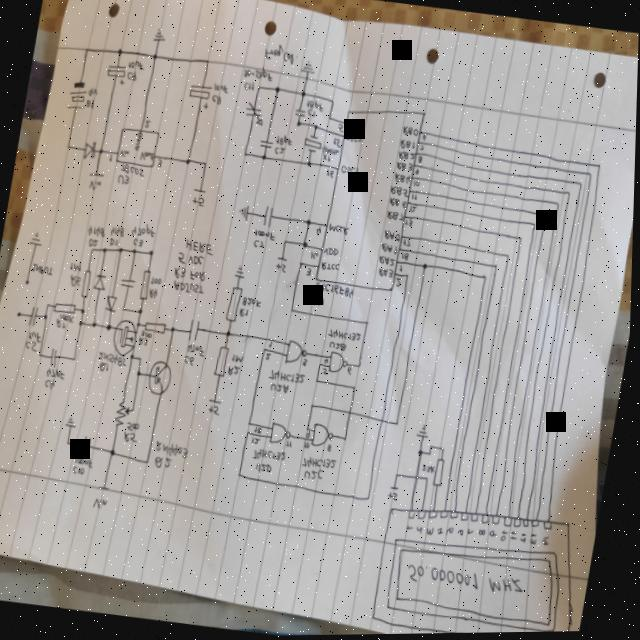capacitor: (187, 84, 212, 111), (243, 101, 267, 128), (104, 63, 127, 86), (188, 317, 202, 343), (262, 204, 276, 228), (81, 434, 95, 456), (49, 347, 61, 368), (29, 305, 40, 326), (120, 277, 138, 289), (292, 106, 306, 120), (259, 138, 274, 150)
crossover: (348, 408, 355, 417), (381, 417, 387, 424), (416, 475, 421, 482)
diode: (82, 139, 99, 162), (93, 273, 109, 291), (105, 294, 120, 313)
ground: (298, 59, 317, 76), (28, 230, 45, 248), (238, 203, 252, 224), (416, 424, 433, 441), (152, 27, 166, 43), (65, 415, 80, 429), (234, 265, 247, 280)
junction: (110, 447, 119, 457), (305, 160, 313, 169), (116, 47, 123, 57), (505, 252, 512, 262), (203, 58, 211, 66), (419, 449, 426, 458), (184, 157, 191, 166), (107, 323, 114, 332), (273, 85, 280, 94), (302, 240, 309, 249), (343, 435, 350, 444), (481, 274, 488, 283), (145, 457, 152, 466), (226, 329, 233, 338), (367, 495, 374, 504), (422, 263, 429, 272), (517, 235, 524, 244), (238, 470, 245, 479), (300, 89, 307, 98), (290, 306, 297, 315), (151, 52, 158, 61), (66, 439, 73, 447), (260, 153, 267, 161), (83, 45, 89, 54), (73, 354, 79, 363), (282, 239, 289, 246), (554, 201, 561, 208), (587, 172, 594, 179), (295, 121, 302, 128), (242, 150, 248, 158), (65, 143, 71, 151), (306, 219, 312, 227), (149, 249, 155, 256), (311, 403, 317, 410), (98, 148, 104, 155), (132, 248, 138, 255), (79, 320, 85, 326), (395, 421, 401, 427), (578, 182, 584, 188), (313, 125, 319, 131), (405, 273, 411, 279), (597, 164, 602, 171), (203, 161, 208, 167), (137, 370, 142, 376), (396, 473, 401, 479), (353, 385, 358, 391), (81, 308, 86, 314), (316, 378, 321, 384), (442, 447, 447, 453), (39, 352, 44, 358), (139, 308, 144, 314), (532, 223, 537, 229), (543, 213, 548, 219), (567, 191, 572, 197), (299, 261, 304, 267), (256, 85, 261, 91), (494, 264, 499, 270), (171, 326, 176, 332), (91, 247, 96, 253), (103, 247, 108, 253), (119, 247, 124, 253), (122, 305, 127, 311), (137, 321, 142, 327), (131, 353, 136, 359), (139, 356, 144, 362), (45, 313, 50, 319), (93, 321, 98, 327), (132, 407, 137, 413), (358, 364, 363, 369), (249, 421, 254, 426), (330, 100, 335, 105), (429, 452, 434, 457), (426, 477, 431, 482), (248, 430, 253, 435), (366, 321, 371, 326), (307, 427, 312, 432), (264, 347, 269, 352), (430, 446, 435, 450), (319, 363, 323, 367), (327, 117, 331, 121), (47, 302, 51, 306)
resistor: (224, 284, 244, 323), (214, 345, 231, 379), (115, 399, 133, 427), (139, 270, 153, 301), (434, 459, 448, 488), (81, 268, 94, 297), (54, 301, 77, 315), (145, 320, 168, 334)
source: (66, 79, 90, 111)
terminal: (88, 171, 105, 178), (193, 188, 208, 195), (209, 397, 224, 404), (100, 484, 112, 491), (391, 485, 403, 491), (17, 308, 24, 318), (277, 256, 288, 262), (25, 279, 31, 285)
text: (408, 562, 529, 599), (261, 42, 297, 66), (316, 281, 356, 300), (156, 440, 192, 460), (253, 446, 290, 465), (302, 454, 340, 472), (184, 237, 216, 257), (269, 369, 308, 385), (242, 65, 275, 83), (98, 350, 130, 368), (173, 279, 206, 296), (174, 266, 207, 282), (176, 251, 207, 268), (328, 328, 363, 343), (130, 221, 157, 239), (120, 162, 146, 178), (32, 261, 55, 277), (305, 467, 327, 483), (255, 461, 276, 476), (329, 222, 350, 237), (87, 224, 107, 239), (254, 229, 277, 242), (242, 296, 264, 309), (389, 185, 411, 198), (188, 342, 207, 357), (156, 455, 175, 470), (383, 229, 403, 243), (305, 99, 325, 113), (47, 366, 68, 379), (76, 456, 97, 469), (402, 125, 421, 139), (271, 382, 291, 395), (124, 430, 142, 444), (321, 145, 341, 157), (110, 224, 126, 239), (94, 496, 111, 510), (275, 135, 293, 148), (340, 165, 359, 177), (321, 261, 340, 273), (389, 198, 408, 210), (69, 272, 83, 288), (378, 267, 395, 280), (381, 243, 398, 256), (212, 83, 230, 95), (379, 255, 397, 267), (386, 210, 404, 222), (228, 364, 243, 378), (345, 133, 364, 144), (323, 246, 340, 258), (394, 173, 411, 185), (396, 161, 413, 173), (398, 151, 415, 163), (399, 139, 416, 151), (127, 59, 145, 70), (330, 341, 348, 352), (69, 259, 83, 273), (127, 420, 143, 432), (26, 339, 40, 352), (133, 132, 143, 150), (140, 151, 155, 163), (192, 195, 207, 207), (29, 330, 44, 342), (60, 312, 76, 323), (89, 179, 102, 192), (117, 173, 130, 186), (347, 120, 361, 132), (422, 464, 438, 474), (542, 535, 554, 548), (275, 262, 288, 274), (184, 355, 197, 367), (148, 287, 160, 300), (209, 404, 222, 416), (74, 464, 88, 475), (531, 532, 541, 547), (502, 529, 512, 544), (314, 296, 326, 308), (273, 146, 286, 157), (232, 354, 246, 364), (211, 94, 222, 106), (243, 81, 255, 92), (134, 237, 145, 249), (46, 377, 57, 389), (56, 317, 68, 328), (142, 329, 155, 339), (389, 492, 400, 503), (332, 137, 343, 148), (126, 70, 137, 81), (139, 335, 150, 346), (100, 361, 111, 372), (428, 526, 438, 537), (240, 307, 250, 318), (310, 250, 320, 261), (254, 239, 265, 249), (88, 86, 98, 97), (109, 236, 119, 247), (512, 531, 521, 543), (447, 526, 456, 538), (151, 277, 163, 286), (522, 532, 530, 545), (326, 168, 335, 179), (88, 237, 97, 248), (252, 436, 263, 445), (85, 98, 94, 109), (119, 149, 130, 158), (401, 251, 410, 262), (255, 425, 265, 434), (490, 530, 500, 539), (480, 529, 490, 538), (468, 528, 478, 537), (458, 529, 468, 538), (408, 205, 418, 214), (337, 123, 345, 134), (396, 277, 404, 288), (438, 527, 447, 536), (322, 154, 331, 163), (307, 109, 316, 118), (405, 219, 414, 228), (403, 238, 412, 247), (407, 525, 417, 533), (144, 119, 151, 130), (306, 267, 313, 278), (418, 524, 425, 535), (316, 226, 323, 237), (302, 358, 310, 367), (412, 180, 421, 188), (328, 443, 335, 453), (347, 366, 354, 376), (157, 158, 164, 168), (266, 352, 273, 361), (305, 440, 312, 449), (287, 439, 294, 448), (411, 193, 418, 202), (307, 429, 313, 439), (323, 367, 330, 375), (417, 156, 423, 165), (422, 134, 427, 143), (269, 341, 274, 349), (108, 154, 113, 162), (399, 265, 404, 273), (419, 145, 425, 151), (414, 169, 419, 176), (325, 358, 330, 364)
transistor: (111, 317, 141, 359), (147, 358, 176, 396)
